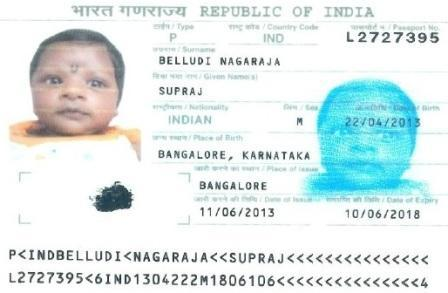DOB: (333, 116, 427, 129)
Surname: (157, 52, 286, 71)
country_code: (257, 32, 290, 48)
date_of_expiry: (332, 204, 429, 221)
date_of_issue: (192, 205, 290, 218)
details: (4, 239, 431, 288)
name: (157, 86, 299, 101)
nationality: (148, 111, 245, 127)
passport_no: (345, 30, 441, 45)
photo: (18, 38, 140, 164)
place_of_birth: (150, 148, 320, 162)
place_of_issue: (196, 178, 272, 191)
sex: (287, 116, 310, 131)
type: (165, 28, 183, 43)
